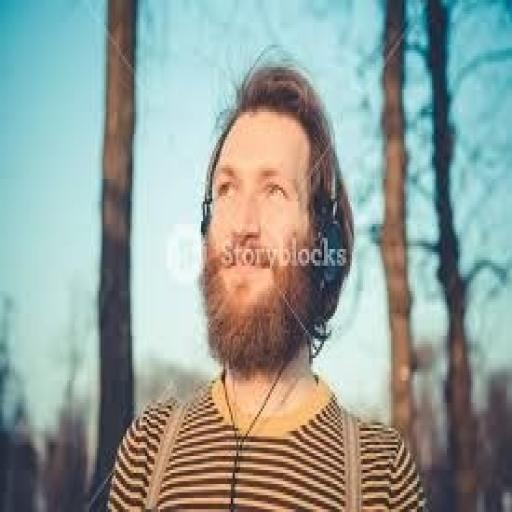listening_to_music: (101, 59, 430, 509)
